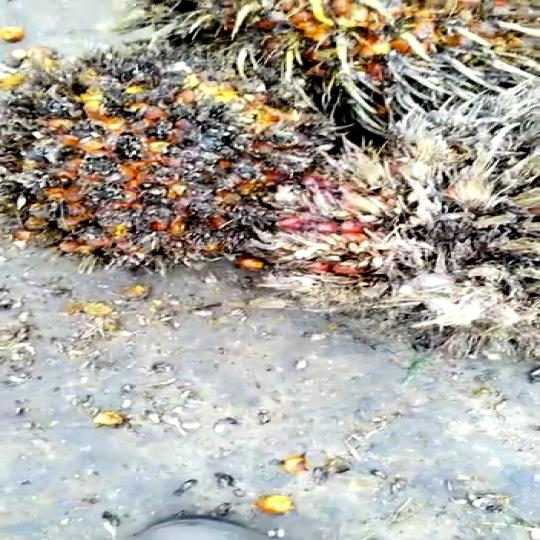terlalu masak: (0, 48, 345, 280)
